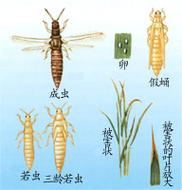Thripidae: (9, 8, 105, 89)
